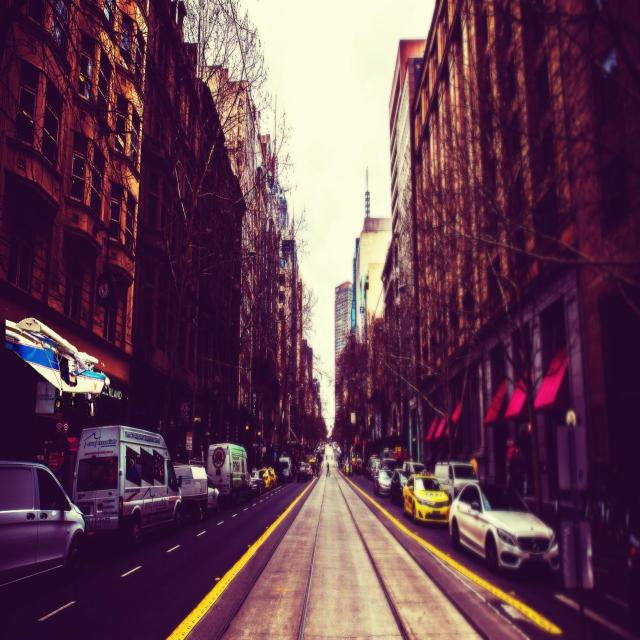airplane: (4, 316, 110, 416)
